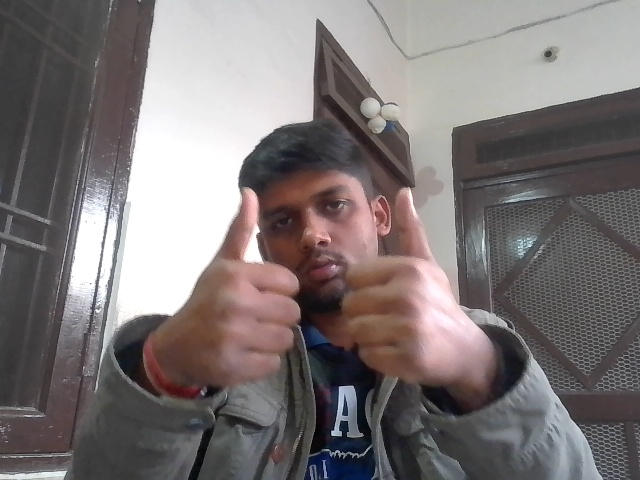Excellent: (183, 182, 465, 399)
